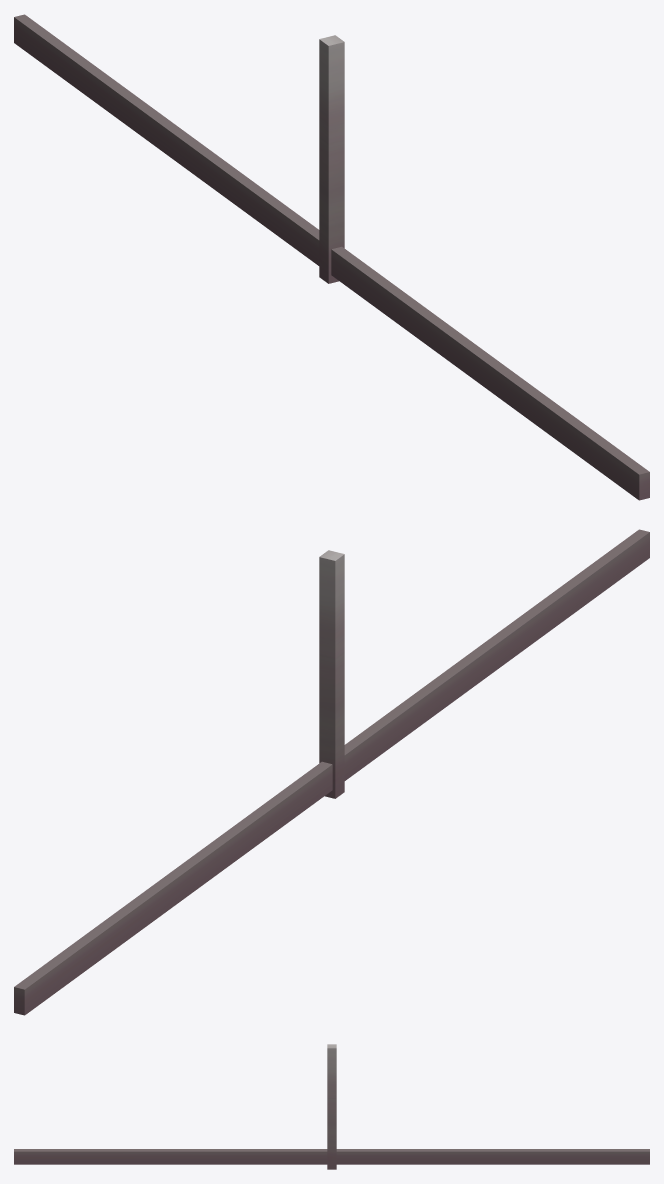
The model's file is WallPanels 2.fbx.
The picture shows the model from 3 angles, top to bottom: view 1: azimuth 30°, elevation 25°; view 2: azimuth 150°, elevation 25°; view 3: azimuth 270°, elevation 25°; orthographic projection. The views are drawn at different scales.
Visible parts, largest first — view 1: Cube, Cube.001; view 2: Cube, Cube.001; view 3: Cube, Cube.001.
Part boxes in pixels (box(x1,y1,x2,y2)): Cube: box(14, 14, 649, 500); Cube.001: box(319, 35, 344, 283); Cube: box(14, 529, 649, 1015); Cube.001: box(319, 550, 344, 798); Cube: box(14, 1149, 649, 1164); Cube.001: box(327, 1044, 336, 1169).
Size of the model in its own units: 150 by 2100 by 10000.
